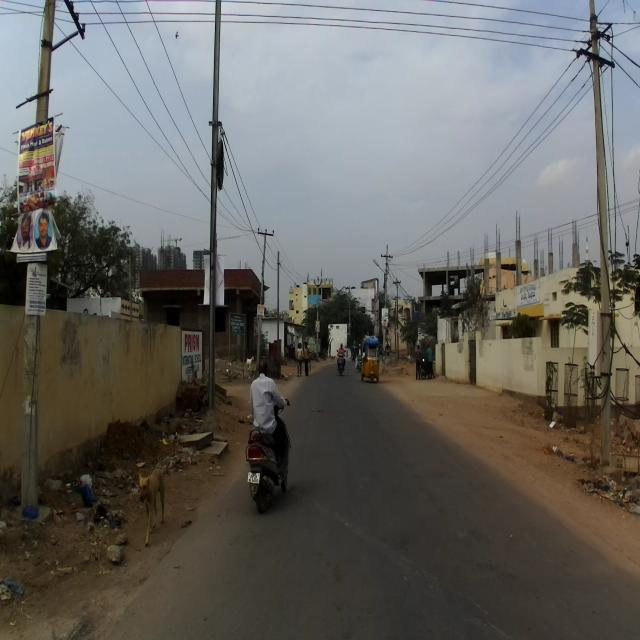Dog ahead at: (136, 459, 175, 548)
electric pole ahead at: (22, 0, 78, 535), (200, 0, 234, 416)
motorcycle ahead at: (243, 416, 297, 506)
